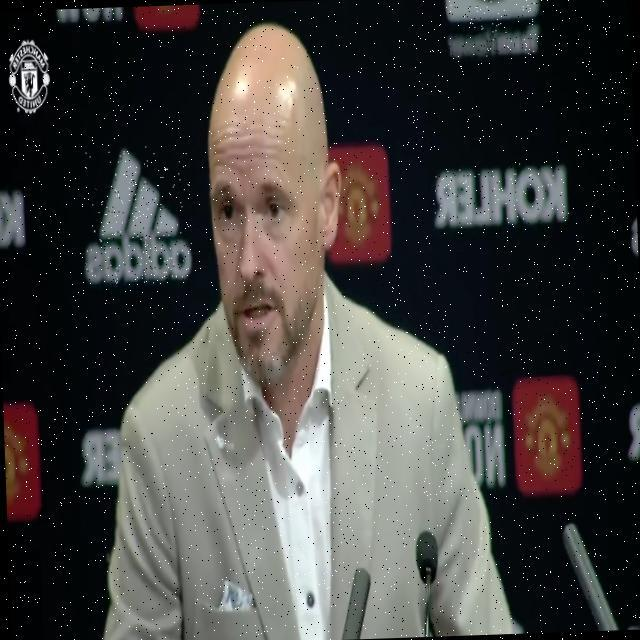Adidas: (79, 144, 194, 286)
Kohler: (431, 162, 569, 229)
TeamViewer: (444, 0, 540, 57)
